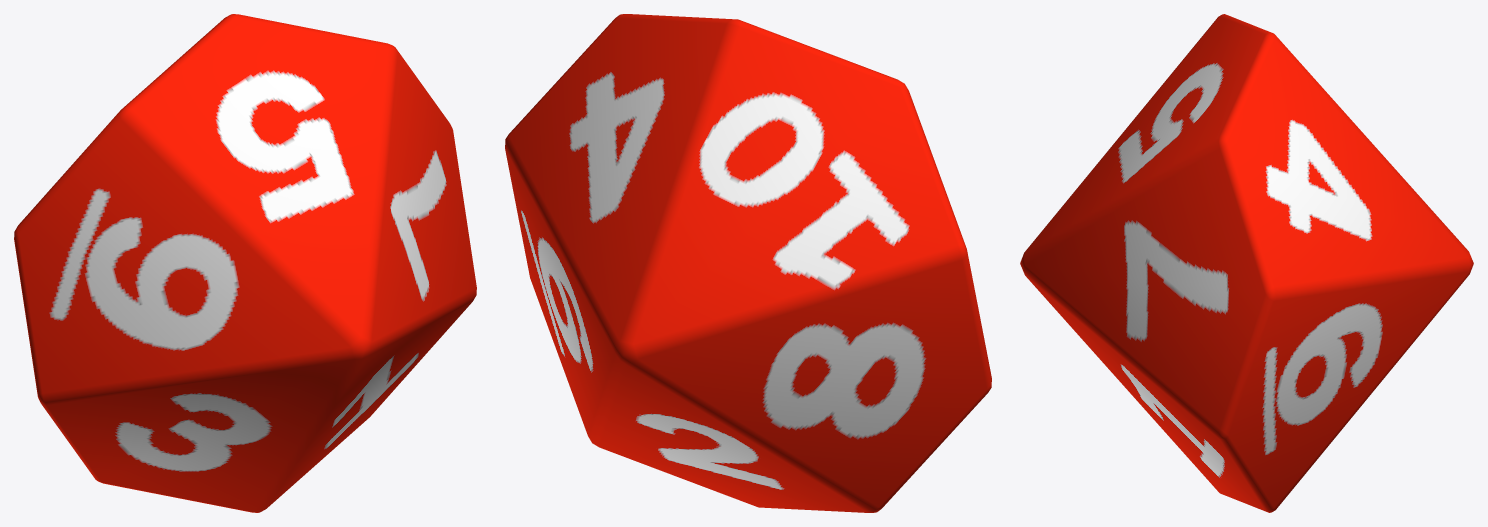
3 views of the same model, side by side, from view 1: azimuth 30°, elevation 25°; view 2: azimuth 150°, elevation 25°; view 3: azimuth 270°, elevation 25° (orthographic). The views are drawn at different scales.
Visible parts, largest first — view 1: 10Red_10Red_0; view 2: 10Red_10Red_0; view 3: 10Red_10Red_0.
Boxes of the visible parts, left/top/right/bottom form: 10Red_10Red_0: left=14, top=14, right=476, bottom=512; 10Red_10Red_0: left=505, top=14, right=991, bottom=512; 10Red_10Red_0: left=1020, top=14, right=1473, bottom=512.
Bounding box in the file's own units: 1.51 × 1.58 × 1.41.
1 material, 1 textured.
